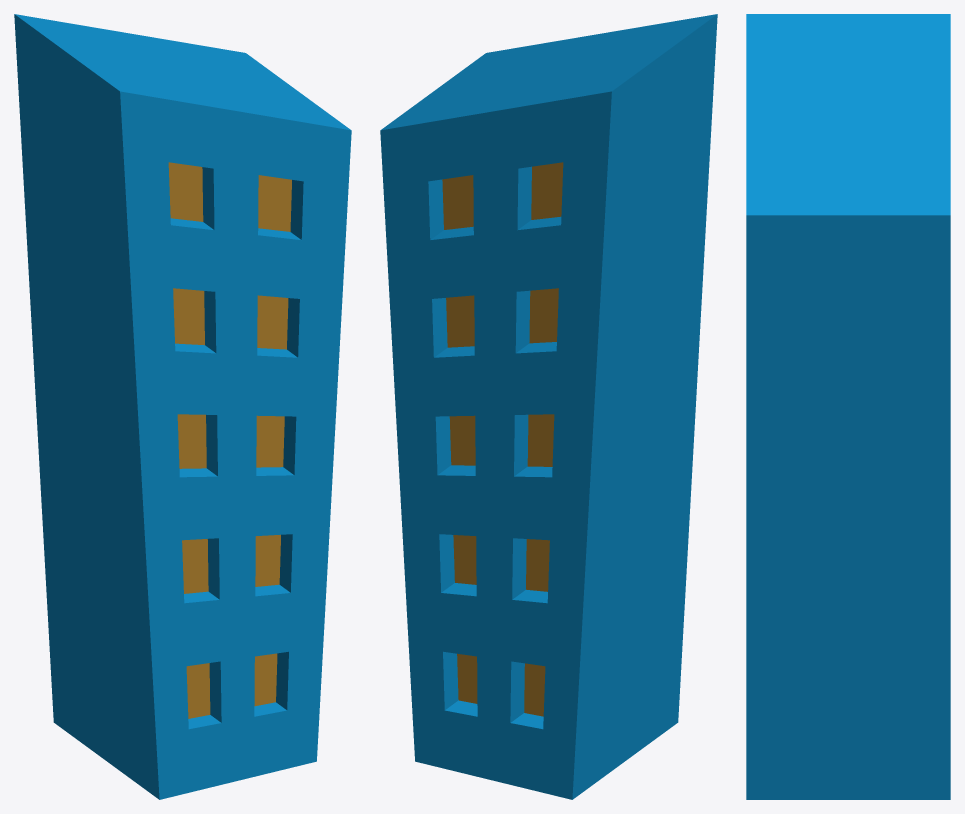
File: Building1.fbx
3 renders of one model, left to right at view 1: azimuth 30°, elevation 25°; view 2: azimuth 150°, elevation 25°; view 3: azimuth 270°, elevation 25°, orthographic. The views are drawn at different scales.
Parts seen in each view (by area): view 1: Cube; view 2: Cube; view 3: Cube.
Boxes of the visible parts, x1,y1,x2,y2 form: Cube: [14, 14, 351, 799]; Cube: [380, 14, 717, 799]; Cube: [746, 14, 950, 799].
Size of the model in its own units: 357 by 1059 by 283.
